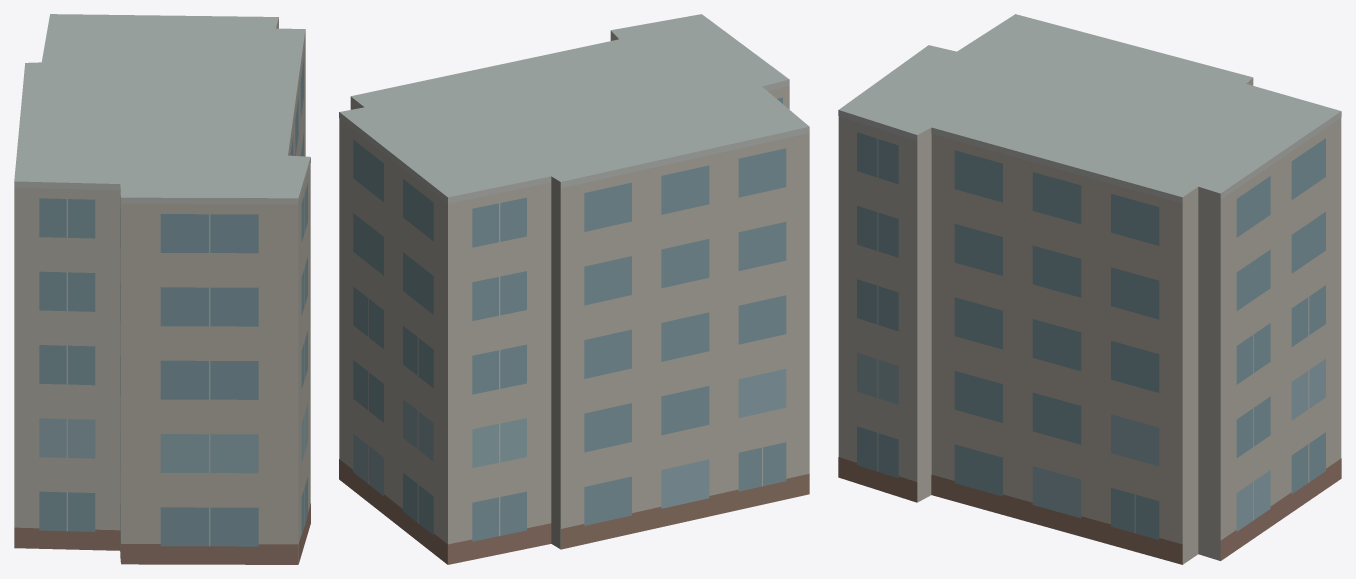
The model's file is survey-upis-32738013.glb.
3 renders of one model, left to right at view 1: azimuth 30°, elevation 25°; view 2: azimuth 150°, elevation 25°; view 3: azimuth 270°, elevation 25°, orthographic.
Visible parts, largest first — view 1: survey-upis-32738013.tmp; view 2: survey-upis-32738013.tmp; view 3: survey-upis-32738013.tmp.
Boxes of the visible parts, x1,y1,x2,y2 form: survey-upis-32738013.tmp: (14, 14, 310, 564); survey-upis-32738013.tmp: (339, 14, 809, 564); survey-upis-32738013.tmp: (838, 14, 1341, 564).
Size of the model in its own units: 15.27 by 14.27 by 17.7.
